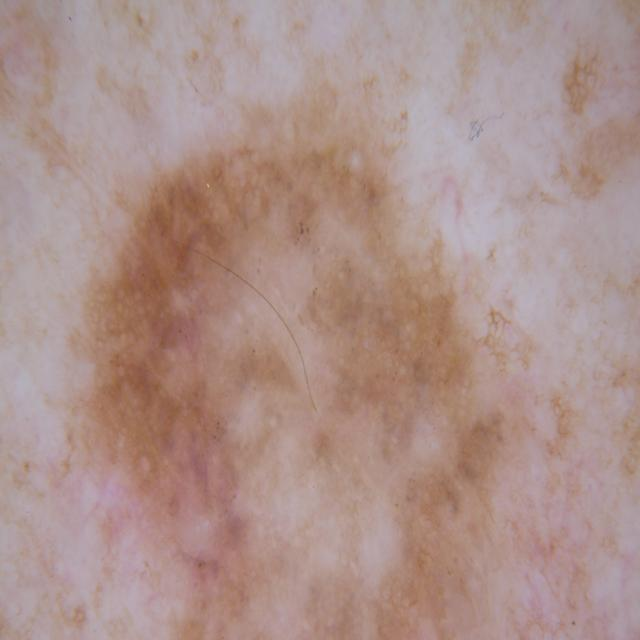Melanoma: (75, 113, 529, 640)
